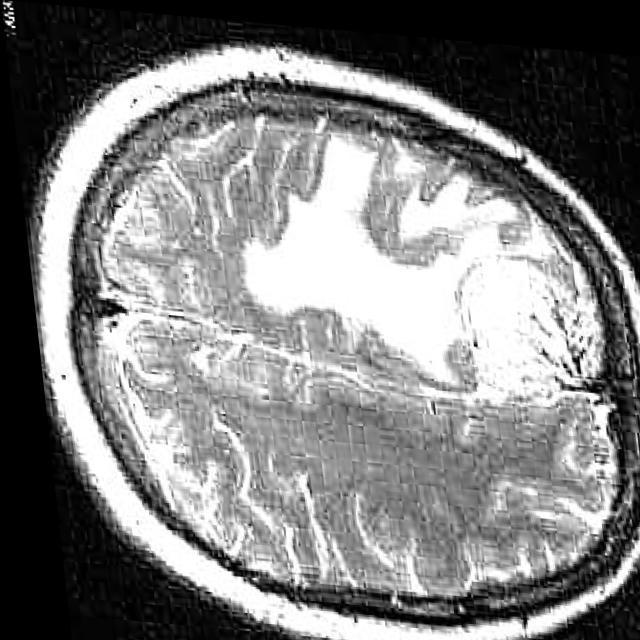Tumor: (238, 126, 590, 392)
